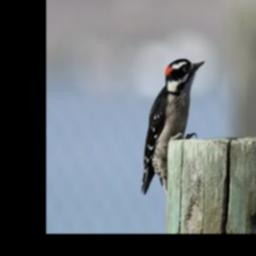Woodpecker: (141, 57, 206, 193)
